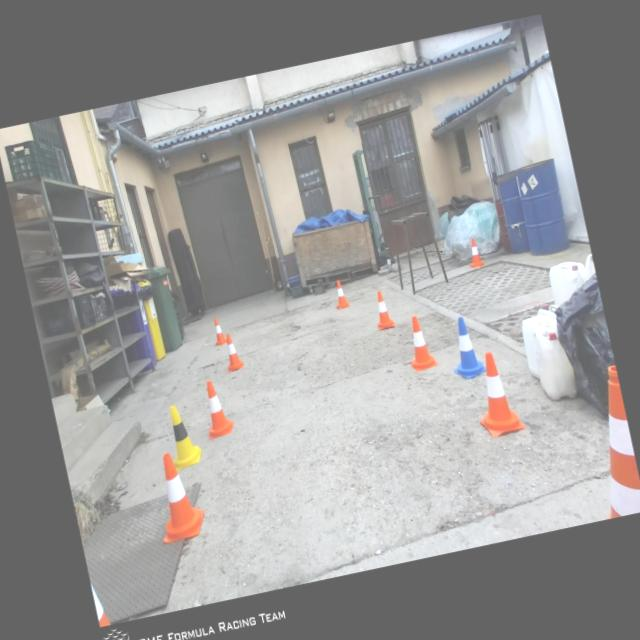blue_cone: (443, 314, 488, 380)
large_orange_cone: (576, 363, 640, 518)
orange_cone: (146, 448, 209, 542), (465, 348, 526, 439), (197, 377, 236, 439), (401, 314, 438, 372), (370, 288, 395, 329), (220, 330, 243, 372), (330, 278, 350, 310), (464, 237, 484, 268), (208, 316, 228, 346)
yellow_cone: (162, 401, 205, 469)
